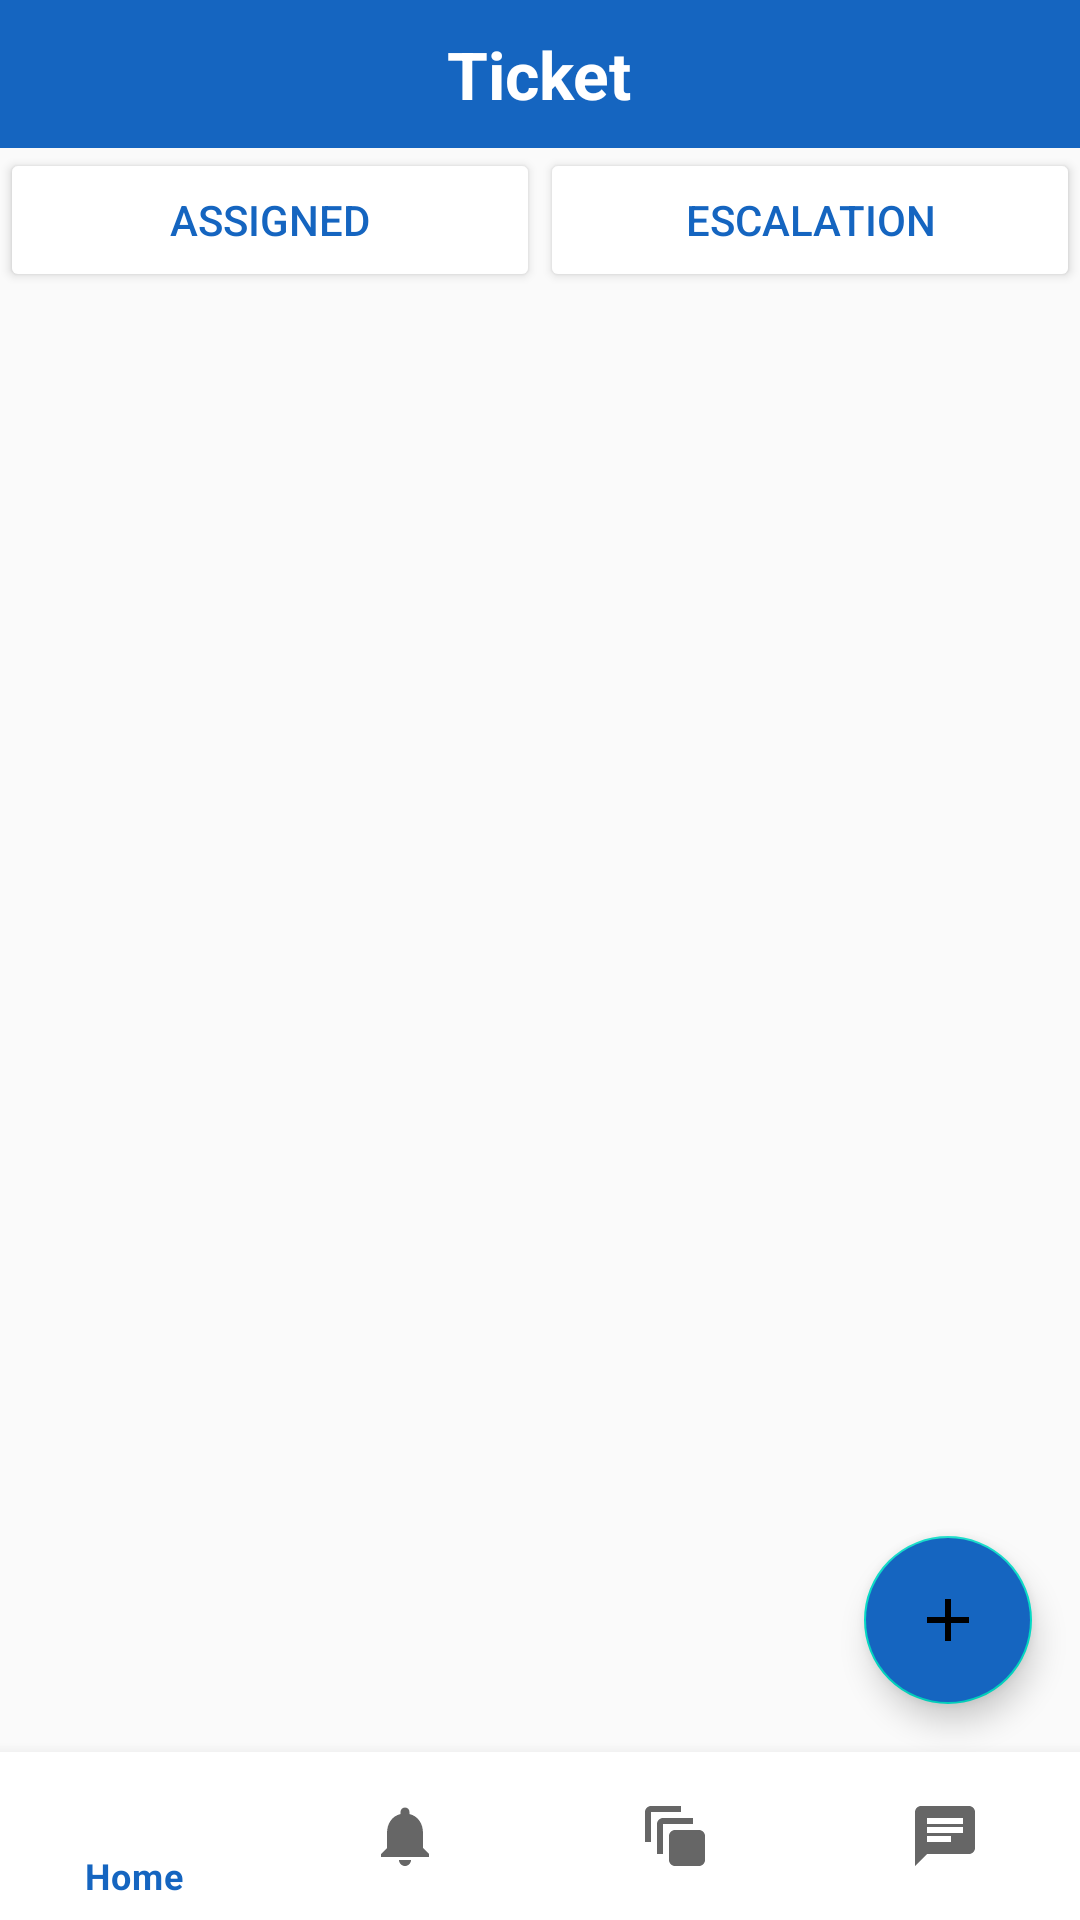

Icon click points for this 1080px×1920px phone screenshot, format (x=x, y=y):
plus: (x=948, y=1620)
